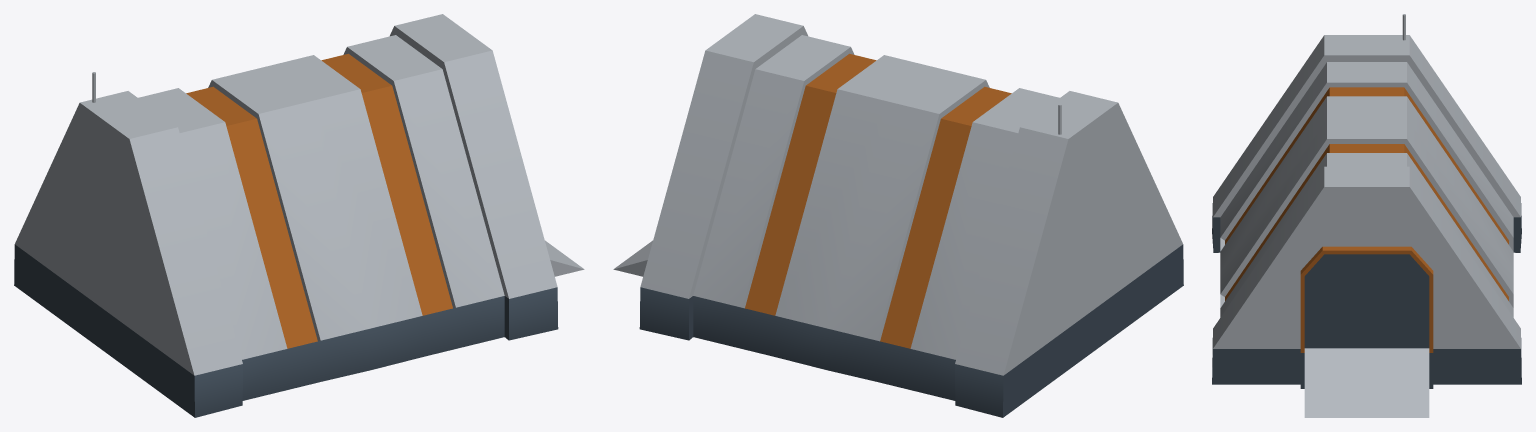
File: TeraMine2.fbx
3 renders of one model, left to right at view 1: azimuth 30°, elevation 25°; view 2: azimuth 150°, elevation 25°; view 3: azimuth 270°, elevation 25°, orthographic. The views are drawn at different scales.
Parts seen in each view (by area): view 1: pasted__polySurface14, pasted__polySurface13; view 2: pasted__polySurface14, pasted__polySurface13; view 3: pasted__polySurface14, pasted__polySurface13.
Part boxes in pixels (x1,y1,x2,y2): pasted__polySurface14: (14, 14, 558, 417); pasted__polySurface13: (545, 240, 584, 276); pasted__polySurface14: (639, 14, 1183, 417); pasted__polySurface13: (613, 240, 652, 276); pasted__polySurface14: (1212, 35, 1521, 388); pasted__polySurface13: (1304, 348, 1429, 417).
Bounding box in the file's own units: 10.24 × 5.74 × 7.22.
